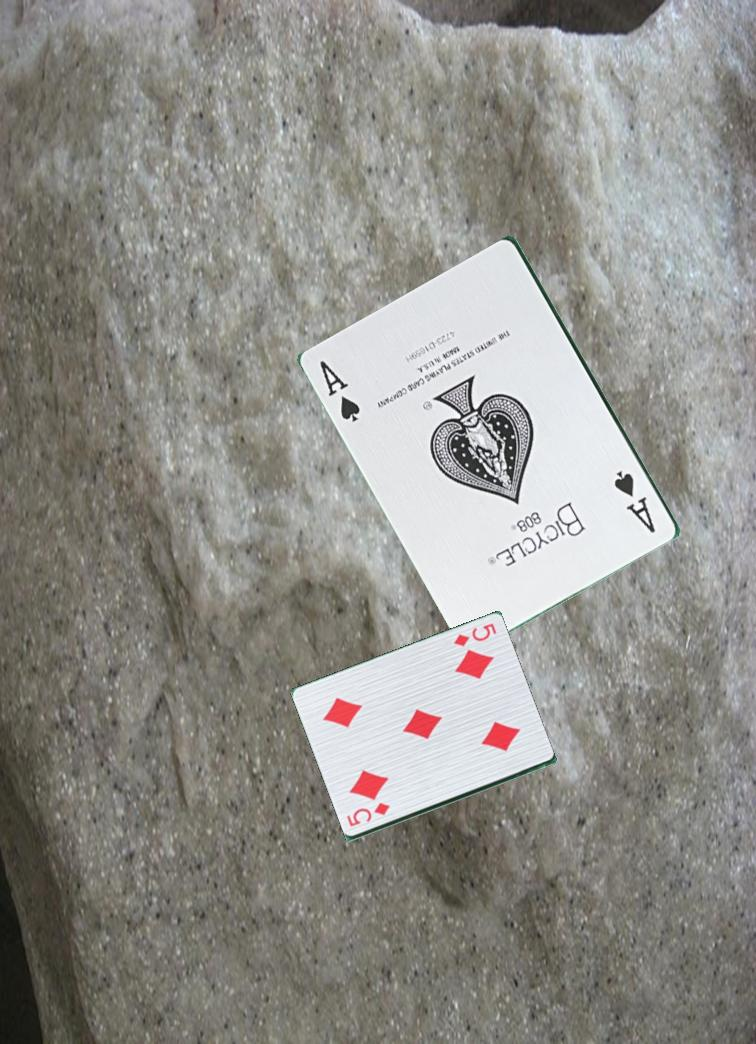5d: (450, 620, 499, 650), (343, 801, 393, 830)
as: (611, 467, 659, 537), (317, 357, 364, 427)
